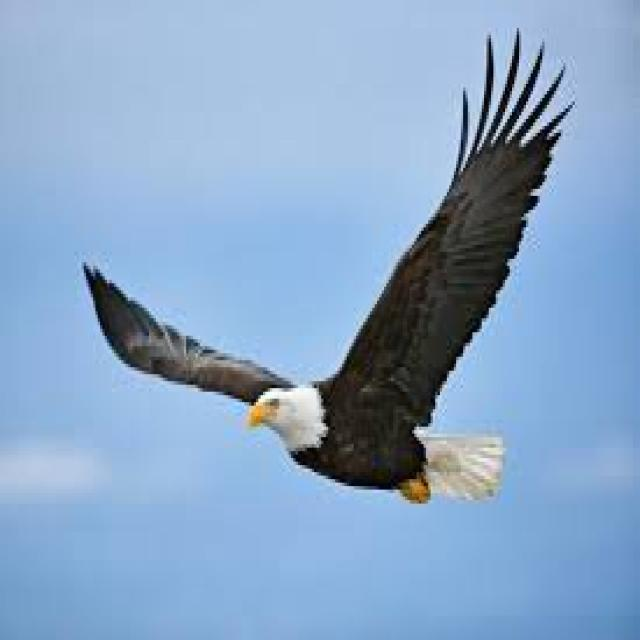Eagle: (81, 40, 557, 518)
